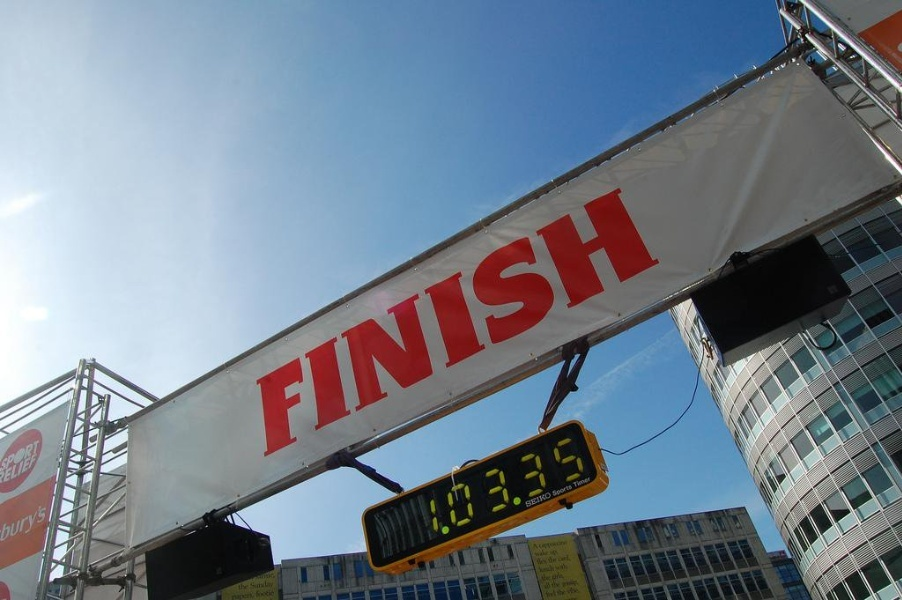text: (257, 184, 272, 460), (273, 184, 288, 460), (289, 184, 304, 460), (305, 184, 320, 460), (321, 184, 336, 460), (337, 184, 352, 460), (353, 184, 368, 460), (369, 184, 384, 460), (385, 184, 400, 460), (401, 184, 416, 460), (417, 184, 432, 460), (433, 184, 448, 460), (449, 184, 464, 460), (465, 184, 480, 460), (481, 184, 496, 460), (497, 184, 512, 460), (513, 184, 528, 460), (529, 184, 544, 460), (545, 184, 560, 460), (561, 184, 576, 460), (577, 184, 592, 460), (593, 184, 608, 460), (609, 184, 624, 460), (625, 184, 640, 460), (641, 184, 656, 460), (657, 184, 663, 460), (433, 433, 448, 543), (449, 433, 464, 543), (465, 433, 480, 543), (481, 433, 496, 543), (497, 433, 512, 543), (513, 433, 528, 543), (529, 433, 544, 543), (545, 433, 560, 543), (561, 433, 576, 543), (577, 433, 589, 543), (252, 184, 256, 460), (545, 539, 560, 600), (561, 539, 576, 600), (531, 539, 544, 600), (426, 433, 432, 543), (1, 504, 16, 546), (17, 504, 32, 546), (33, 504, 47, 546), (1, 436, 16, 472), (17, 436, 32, 472), (1, 453, 16, 485), (17, 453, 32, 485), (529, 490, 544, 510), (33, 436, 41, 472), (577, 539, 581, 600), (577, 475, 592, 489), (241, 580, 256, 592), (257, 580, 272, 592), (561, 483, 573, 497), (241, 589, 256, 600), (257, 589, 272, 600), (545, 490, 552, 510), (33, 453, 37, 485), (551, 483, 560, 497), (257, 572, 272, 580), (232, 589, 240, 600), (524, 490, 528, 510), (571, 475, 576, 489), (238, 580, 240, 592), (273, 572, 275, 580), (273, 580, 274, 592), (273, 589, 274, 600)
